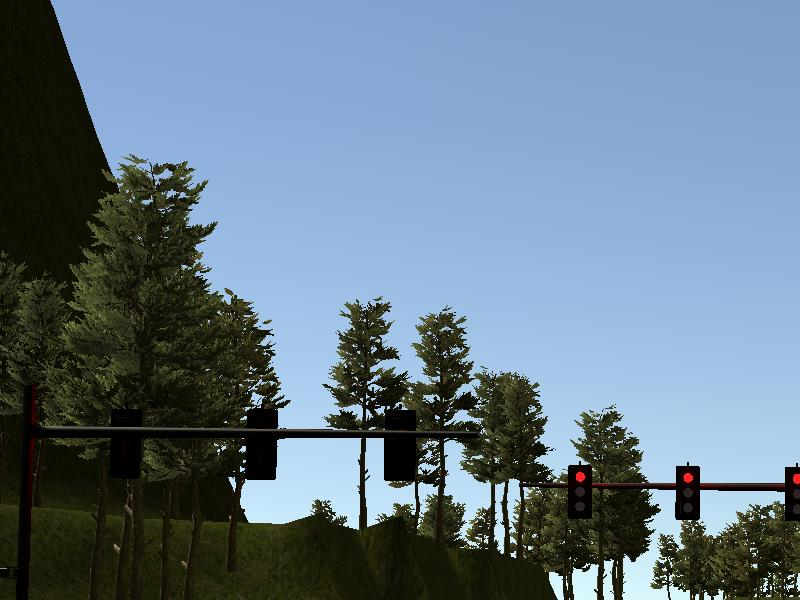Red: (676, 466, 699, 521), (567, 465, 591, 517), (784, 467, 800, 520)
